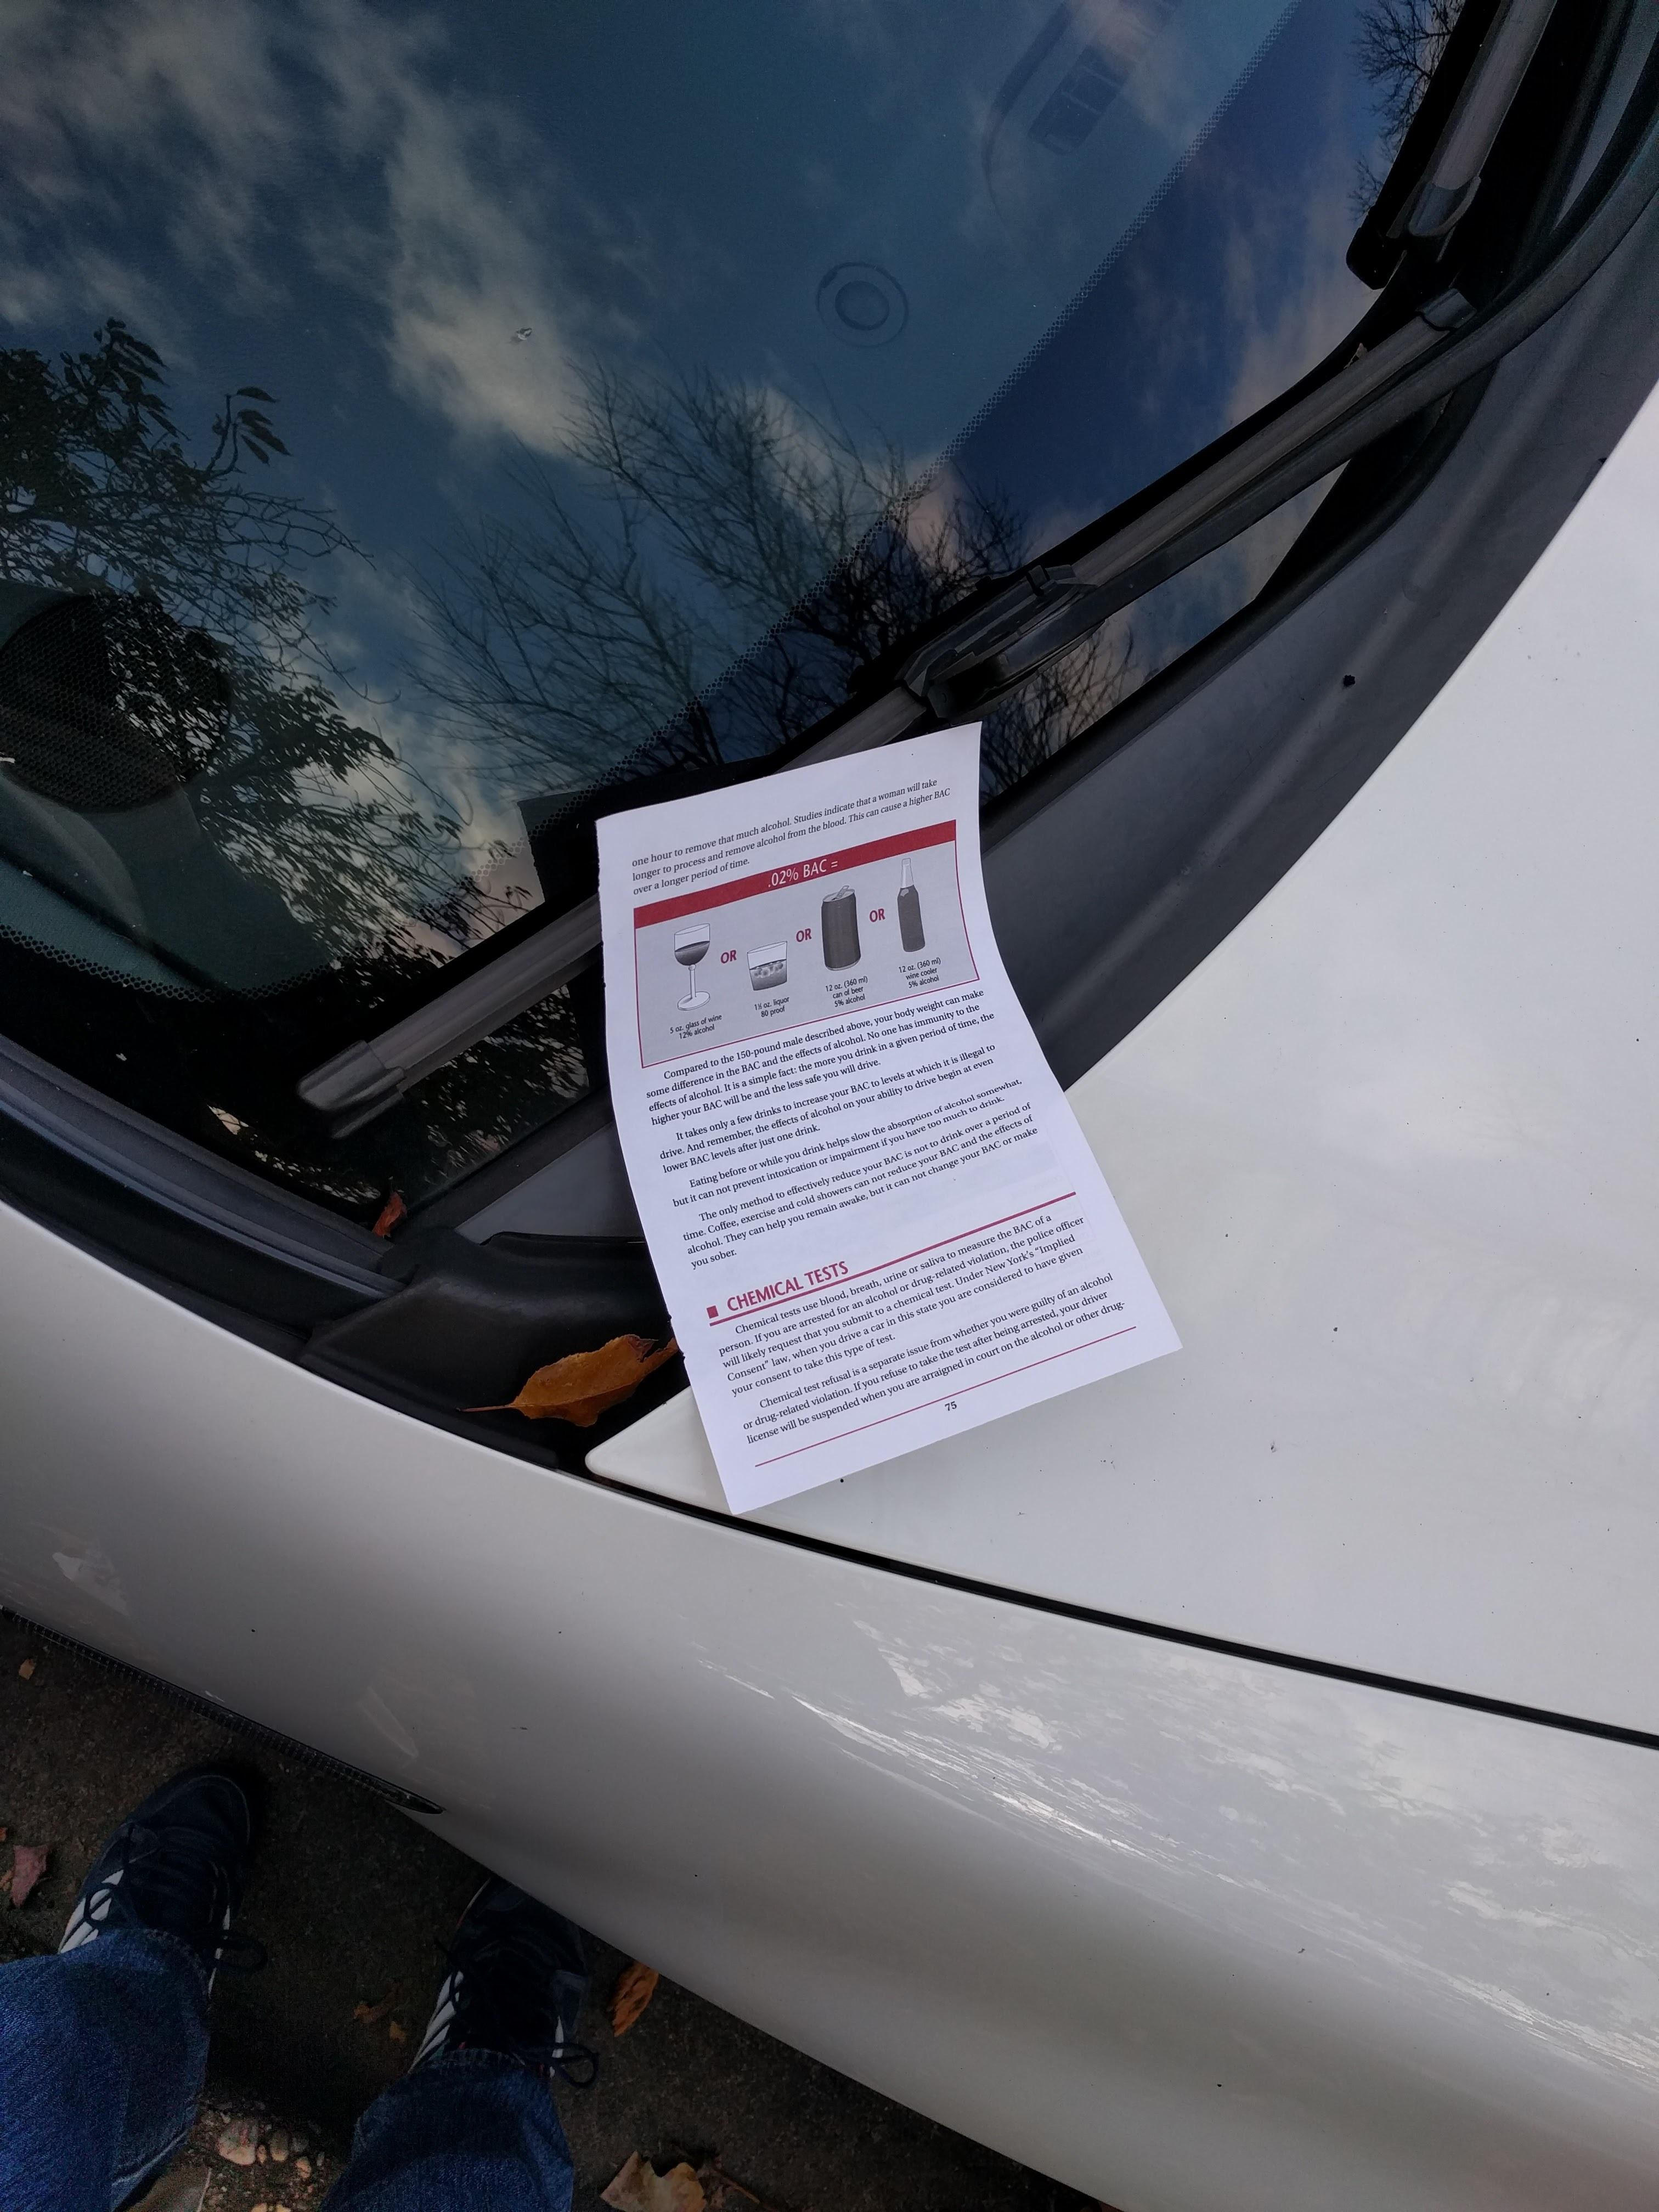paper: (326, 700, 1412, 1876)
